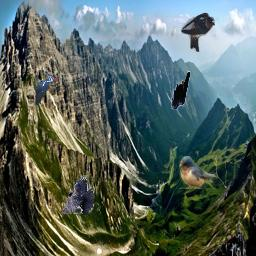Crow: (60, 175, 94, 215), (171, 70, 190, 110)
Swallow: (181, 12, 215, 52), (179, 156, 219, 189)
Woodpecker: (34, 71, 57, 107)
